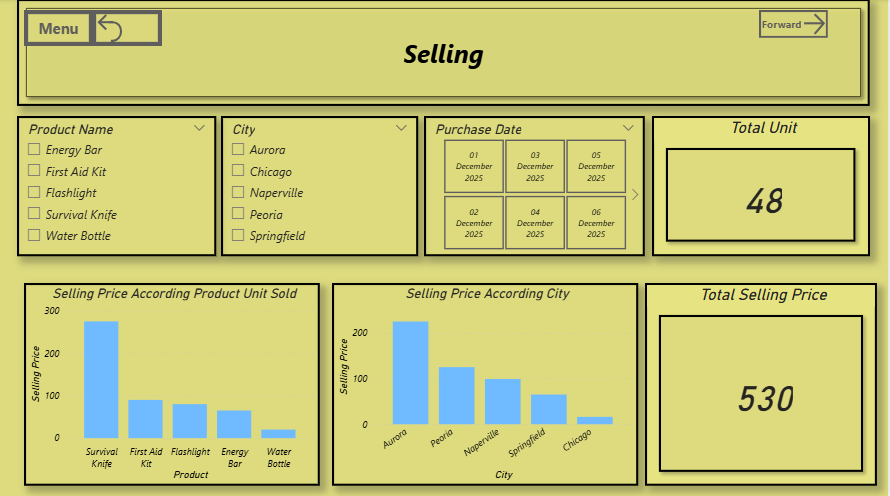

What the dashboard file says about the page in this screenshot:
{"tool":"powerbi","page":{"name":"Selling","canvas":[1280,720],"ordinal":2},"visuals":[{"type":"shape","box":[24.5,0,1228.3,154.1],"z":0},{"type":"slicer","fields":{"Values":["Apocolyse_sales.Product_name"]},"box":[24.5,168.5,286.6,201.6],"z":1000},{"type":"slicer","fields":{"Values":["Apocolyse_sales.customer_city"]},"box":[318.2,168.5,283.7,201.6],"z":2000},{"type":"slicer","fields":{"Values":["Apocolyse_sales.date_purchase"]},"box":[610.6,168.5,318.2,201.6],"z":3000},{"type":"cardVisual","title":"Total Unit","fields":{"Data":["Sum(Apocolyse_sales.units_sold)"]},"box":[938.9,168.5,313.9,201.6],"z":4000},{"type":"columnChart","title":"Selling Price According Product Unit Sold","fields":{"Category":["Apocolyse_sales.Product_name"],"Y":["Sum(Apocolyse_sales.Selling_price)"]},"box":[34.6,409,426.2,292.3],"z":5000},{"type":"columnChart","title":"Selling Price According City","fields":{"Category":["Apocolyse_sales.customer_city"],"Y":["Sum(Apocolyse_sales.Selling_price)"]},"box":[478.1,409,440.6,292.3],"z":6000},{"type":"cardVisual","title":"Total Selling Price","fields":{"Data":["Sum(Apocolyse_sales.Selling_price)"]},"box":[928.8,409,334.1,292.3],"z":7000},{"type":"actionButton","box":[34.6,15.8,99.4,51.8],"z":9000},{"type":"actionButton","box":[132.5,15.8,100.8,51.8],"z":10000},{"type":"actionButton","title":"Forward","box":[1093,15.8,99.4,40.3],"z":11000}]}

Visuals, with their boxes in screenshot pixels (x1, y1, x2, y2), scaled from the page's 1280x720 canvas onto the 890x496 screenshot:
shape: {"x1": 17, "y1": 0, "x2": 871, "y2": 106}
slicer - Apocolyse_sales.Product_name: {"x1": 17, "y1": 116, "x2": 216, "y2": 255}
slicer - Apocolyse_sales.customer_city: {"x1": 221, "y1": 116, "x2": 419, "y2": 255}
slicer - Apocolyse_sales.date_purchase: {"x1": 425, "y1": 116, "x2": 646, "y2": 255}
"Total Unit" cardVisual: {"x1": 653, "y1": 116, "x2": 871, "y2": 255}
"Selling Price According Product Unit Sold" columnChart: {"x1": 24, "y1": 282, "x2": 320, "y2": 483}
"Selling Price According City" columnChart: {"x1": 332, "y1": 282, "x2": 639, "y2": 483}
"Total Selling Price" cardVisual: {"x1": 646, "y1": 282, "x2": 878, "y2": 483}
actionButton: {"x1": 24, "y1": 11, "x2": 93, "y2": 47}
actionButton: {"x1": 92, "y1": 11, "x2": 162, "y2": 47}
"Forward" actionButton: {"x1": 760, "y1": 11, "x2": 829, "y2": 39}
